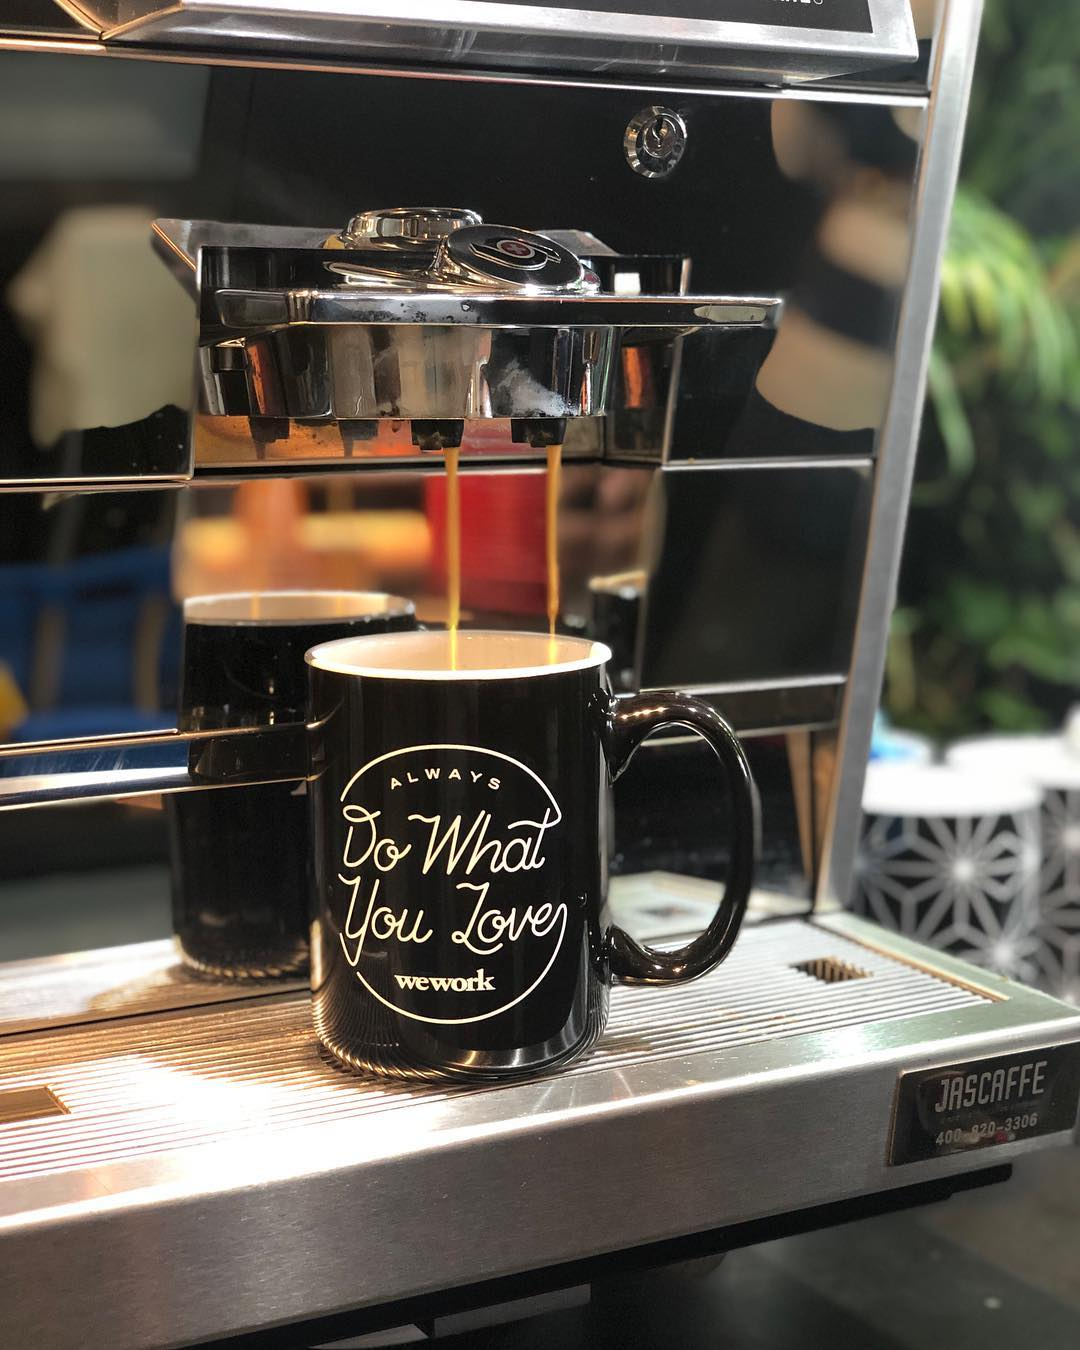wework: (390, 961, 503, 995)
